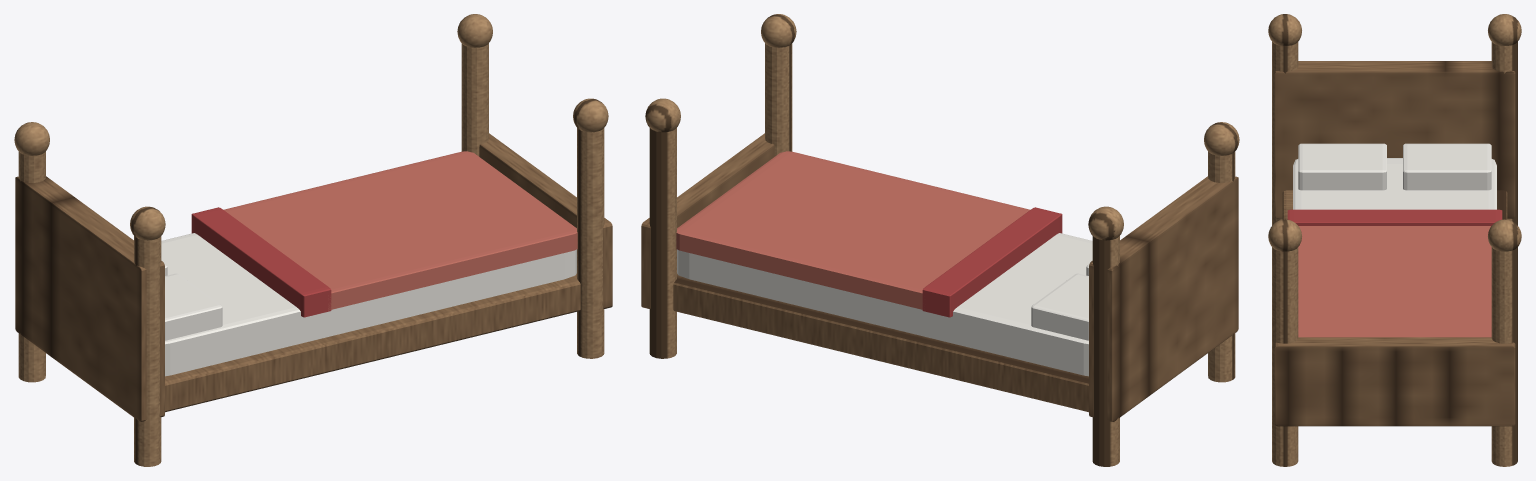
File: bed.glb
The picture shows the model from 3 angles, left to right: view 1: azimuth 30°, elevation 25°; view 2: azimuth 150°, elevation 25°; view 3: azimuth 270°, elevation 25°; orthographic projection. The views are drawn at different scales.
Visible parts, largest first — view 1: bd_head, bd_blanket, bd_post.003, bd_mattress, bd_blanketfold, bd_pillow2; view 2: bd_head, bd_blanket, bd_post.003, bd_mattress, bd_blanketfold, bd_pillow; view 3: bd_head, bd_blanket, bd_post.003, bd_mattress, bd_pillow, bd_pillow2, bd_blanketfold.
Boxes of the visible parts, bbox=[...] form: bd_head: bbox=[15, 133, 612, 421]; bd_blanket: bbox=[223, 151, 577, 310]; bd_post.003: bbox=[14, 14, 608, 466]; bd_mattress: bbox=[161, 233, 576, 376]; bd_blanketfold: bbox=[191, 207, 331, 317]; bd_pillow2: bbox=[165, 273, 222, 340]; bd_head: bbox=[641, 133, 1238, 421]; bd_blanket: bbox=[676, 151, 1030, 309]; bd_post.003: bbox=[645, 14, 1239, 466]; bd_mattress: bbox=[677, 233, 1092, 376]; bd_blanketfold: bbox=[922, 207, 1062, 317]; bd_pillow: bbox=[1031, 273, 1088, 340]; bd_head: bbox=[1274, 61, 1515, 426]; bd_blanket: bbox=[1298, 226, 1491, 337]; bd_post.003: bbox=[1268, 14, 1521, 466]; bd_mattress: bbox=[1293, 158, 1496, 209]; bd_pillow: bbox=[1403, 143, 1491, 190]; bd_pillow2: bbox=[1298, 143, 1386, 190]; bd_blanketfold: bbox=[1287, 209, 1502, 225].
Size of the model in its own units: 2 by 1.01 by 0.97.
Materials: 5 (2 with a texture image).
